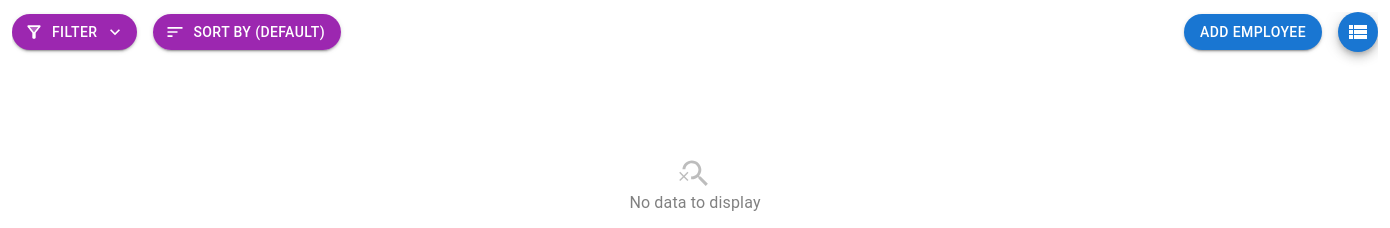
Test: EmployeeHome › 'Sort by' button › should not be visible when page is in List View
Click the button titled "Switch Layout": (1358,32) [1338,12,1378,52]
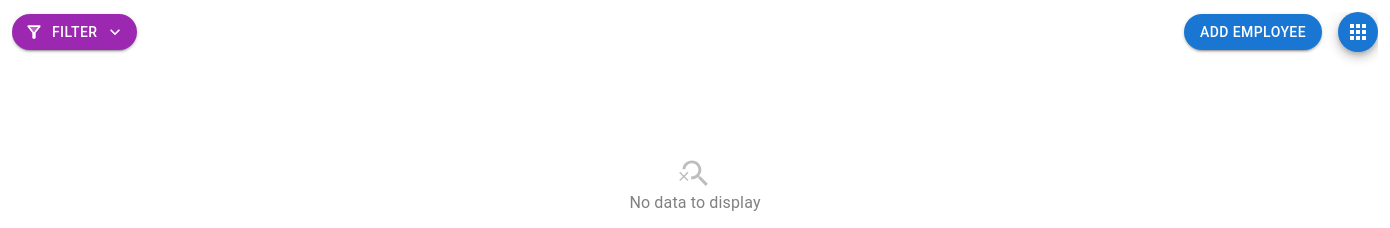
Result: the button "Sort by (Default)" is gone
